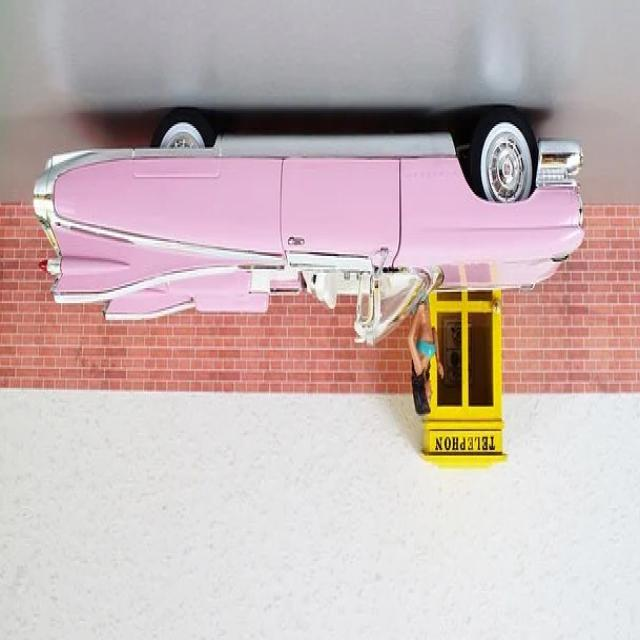Car: (32, 105, 586, 348)
